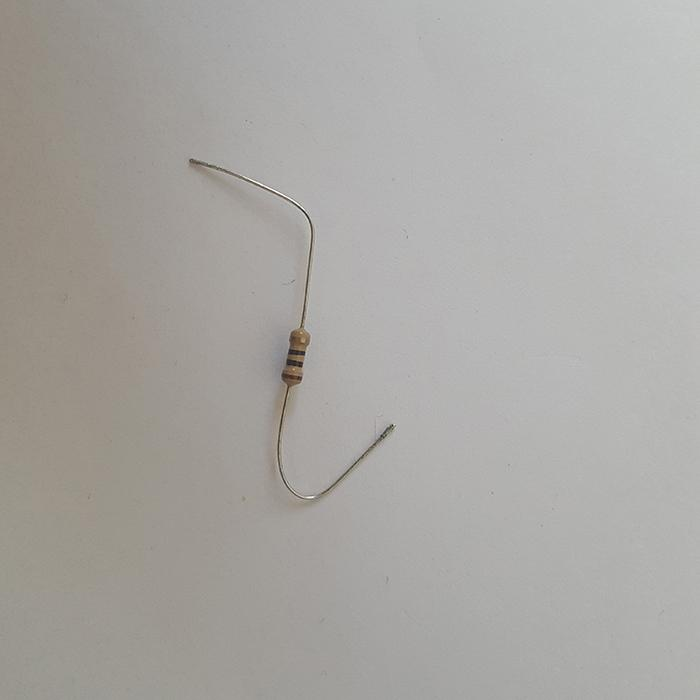resistor: (282, 327, 310, 387)
